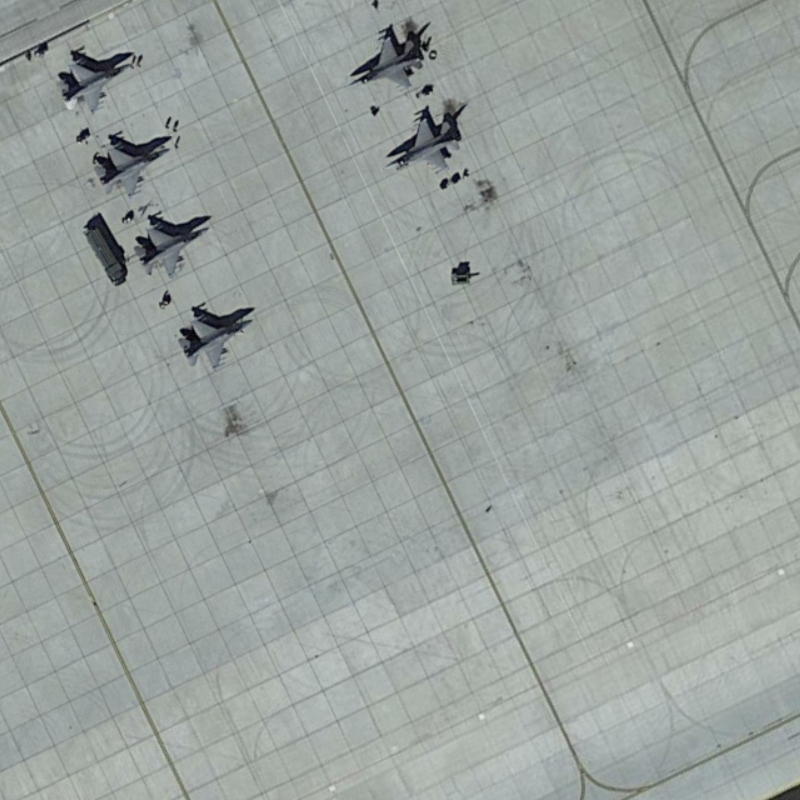A5: (382, 115, 464, 175), (342, 35, 427, 92), (132, 222, 213, 280), (58, 61, 138, 119), (175, 317, 255, 374), (88, 146, 173, 198)
